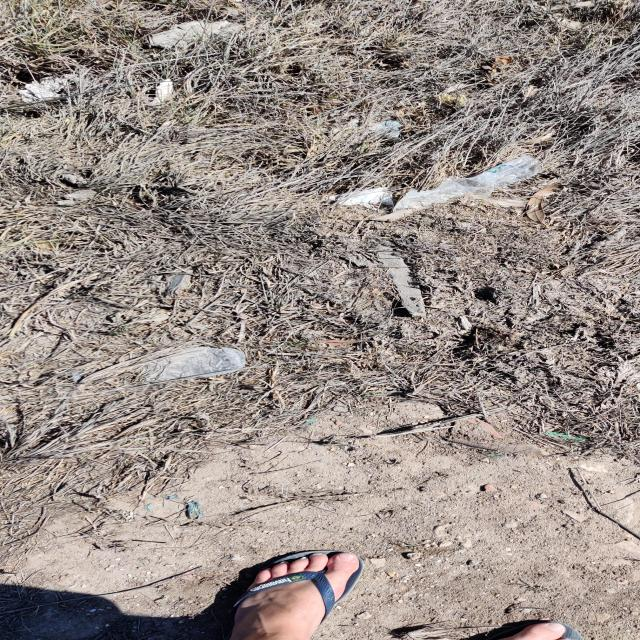litter: (208, 542, 394, 639), (387, 153, 549, 214), (68, 344, 250, 386), (12, 71, 79, 107)
